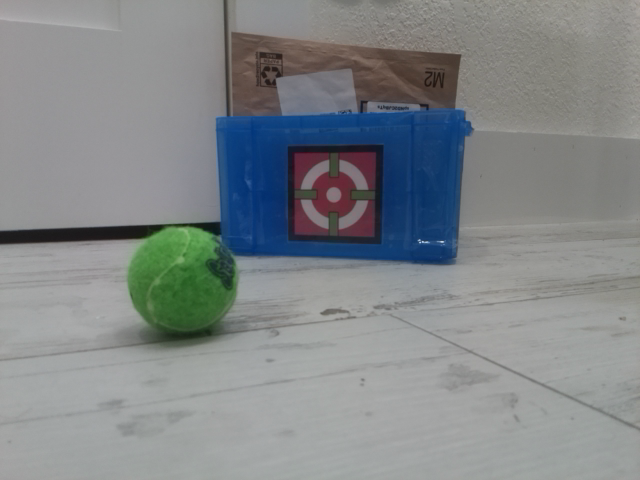drop-bin: (286, 143, 384, 245)
green-ball: (127, 224, 239, 337)
